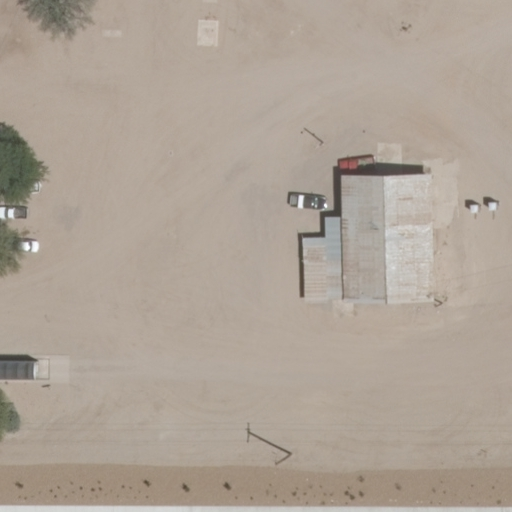DT: (269, 444, 295, 469)
